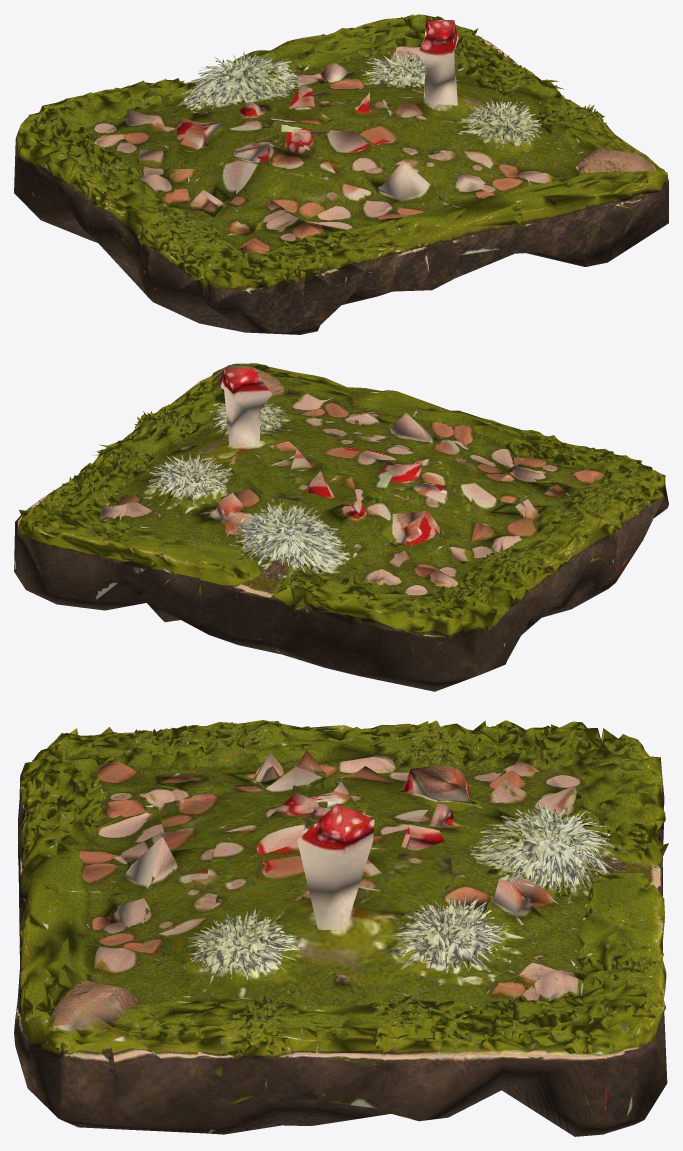
Rendered from leapBaseGarden.2e280ae8.glb.
3 views of the same model, one above another, from view 1: azimuth 30°, elevation 25°; view 2: azimuth 150°, elevation 25°; view 3: azimuth 270°, elevation 25° (orthographic). The views are drawn at different scales.
Bounding box in the file's own units: 1.9 × 0.6694 × 1.62.
Materials: 1 (1 with a texture image).
